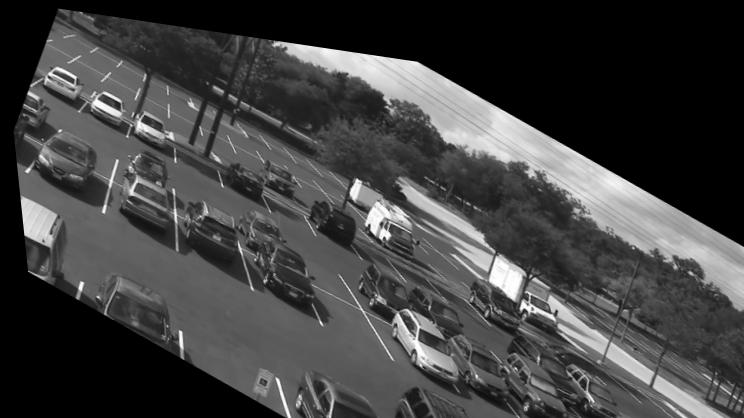empty: (177, 302, 279, 411), (310, 276, 388, 349), (171, 140, 222, 183), (64, 116, 115, 156), (429, 271, 480, 308), (300, 239, 341, 284), (385, 248, 435, 281), (602, 357, 653, 389), (263, 189, 307, 225), (575, 345, 620, 375), (408, 223, 449, 252), (539, 326, 582, 353), (351, 233, 392, 260), (177, 177, 217, 204), (98, 73, 137, 100), (164, 104, 201, 132), (198, 122, 235, 149), (464, 315, 503, 340), (68, 57, 106, 82), (293, 170, 329, 194), (133, 89, 166, 115), (324, 184, 359, 208), (194, 110, 226, 135), (76, 50, 110, 73), (224, 124, 256, 147), (236, 113, 264, 139), (136, 82, 169, 104), (559, 397, 593, 418), (107, 67, 140, 88), (312, 167, 343, 189), (140, 67, 167, 92), (168, 95, 197, 118), (64, 61, 93, 84), (253, 137, 283, 159), (41, 41, 73, 61), (264, 130, 291, 153), (229, 137, 260, 157), (284, 155, 315, 175), (165, 78, 191, 100), (117, 56, 145, 76), (312, 155, 340, 175), (50, 37, 81, 55), (289, 144, 314, 164), (95, 44, 119, 63), (68, 34, 94, 49), (35, 54, 55, 71), (49, 20, 70, 36), (292, 183, 319, 195), (216, 147, 238, 158)
occupied: (89, 264, 160, 347), (374, 296, 450, 372), (281, 356, 373, 418), (16, 194, 74, 287), (494, 338, 561, 410), (31, 124, 98, 194), (438, 321, 504, 392), (245, 230, 309, 303), (177, 193, 232, 265), (377, 374, 465, 418), (503, 320, 567, 374), (462, 265, 522, 322), (114, 165, 165, 232), (359, 186, 410, 249), (399, 272, 459, 325), (562, 347, 612, 405), (302, 191, 353, 246), (351, 252, 404, 303), (233, 204, 278, 246), (221, 156, 260, 196), (40, 65, 81, 103), (257, 151, 296, 190), (131, 107, 164, 145), (87, 88, 121, 124), (127, 149, 162, 179), (19, 91, 47, 126), (11, 109, 32, 153), (596, 401, 641, 418)
